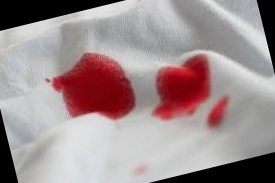blood: (47, 44, 140, 133), (141, 50, 220, 125)
